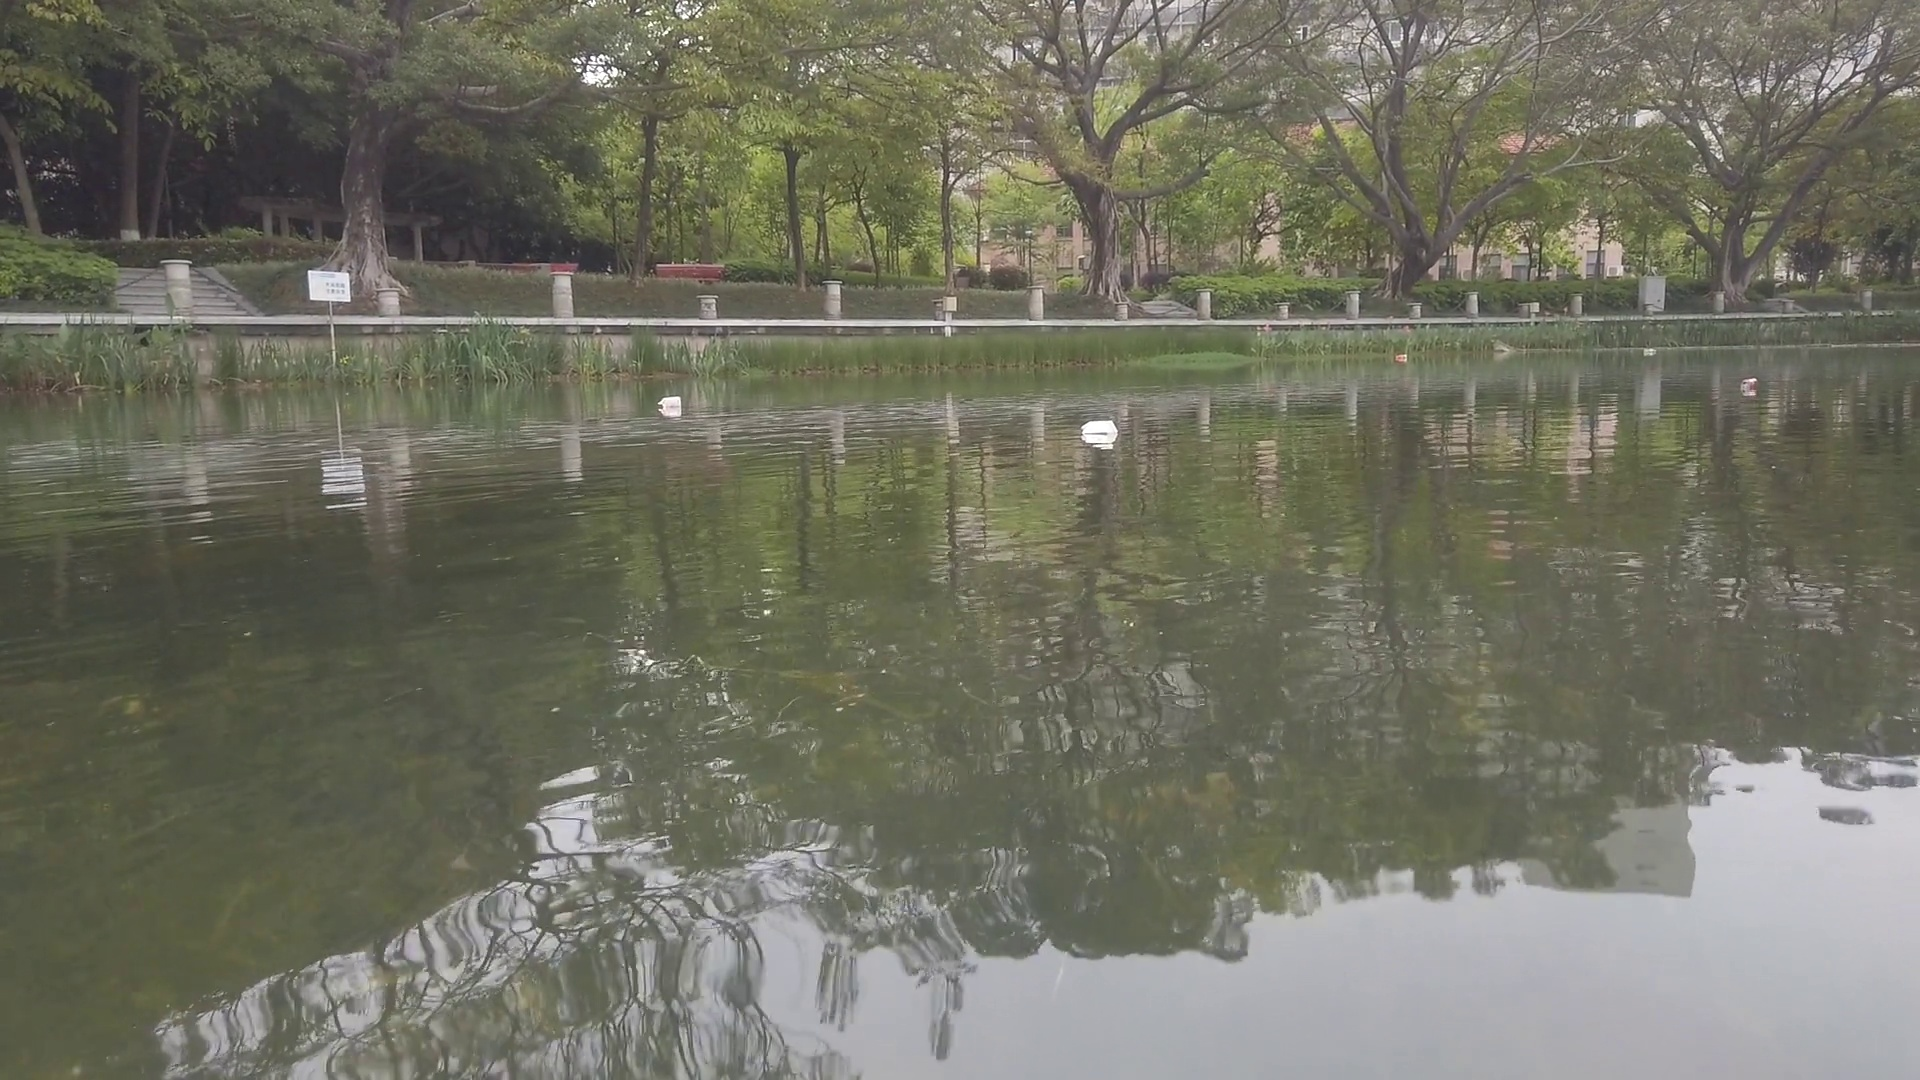bottle: (1742, 380, 1759, 386), (1394, 355, 1410, 361), (1643, 348, 1658, 353)
carton: (1075, 419, 1126, 438), (655, 397, 686, 406)
